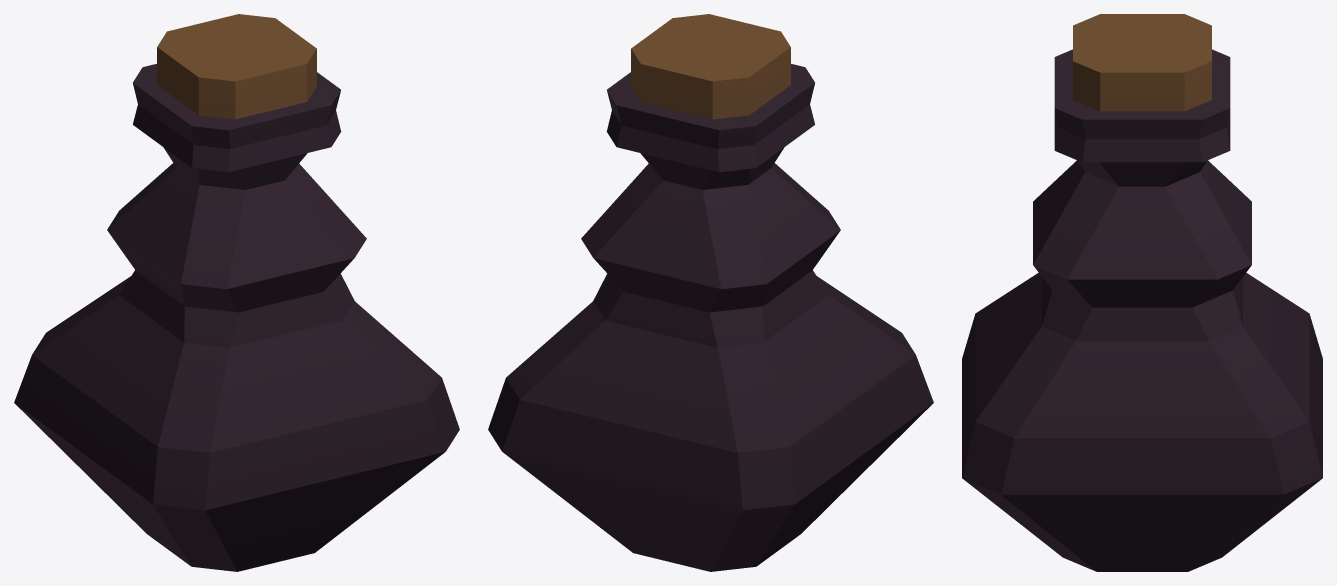
File: bottle.glb
3 renders of one model, left to right at view 1: azimuth 30°, elevation 25°; view 2: azimuth 150°, elevation 25°; view 3: azimuth 270°, elevation 25°, orthographic.
Bounding box in the file's own units: 0.3079 × 0.4659 × 0.3079.
